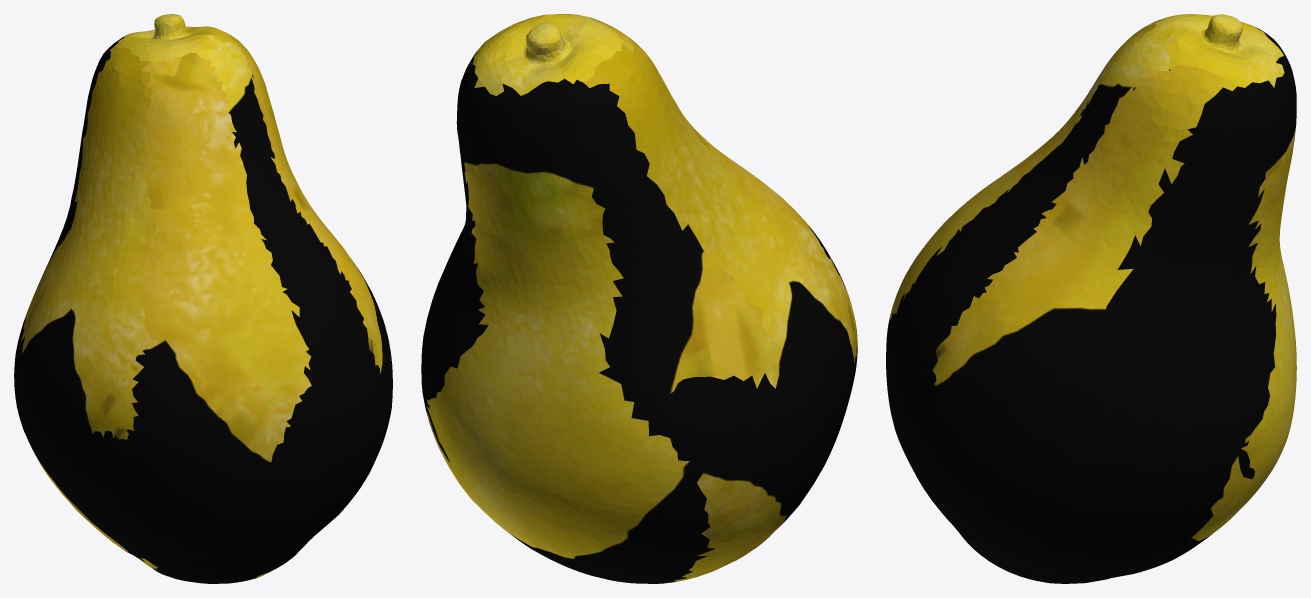
The picture shows the model from 3 angles, left to right: view 1: azimuth 30°, elevation 25°; view 2: azimuth 150°, elevation 25°; view 3: azimuth 270°, elevation 25°; orthographic projection. The views are drawn at different scales.
Parts seen in each view (by area): view 1: node; view 2: node; view 3: node.
Part boxes in pixels (left/top/right/bottom): node: left=14, top=14, right=392, bottom=583; node: left=421, top=14, right=857, bottom=583; node: left=886, top=14, right=1296, bottom=583.
Size of the model in its own units: 0.0665 by 0.1005 by 0.0657.
